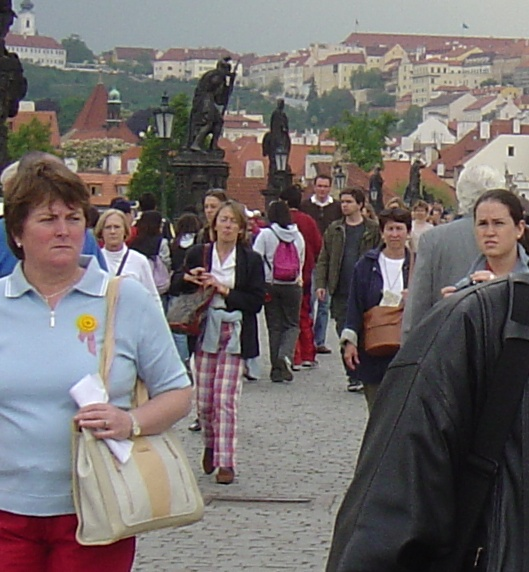person: (180, 200, 262, 491), (255, 200, 304, 382)
